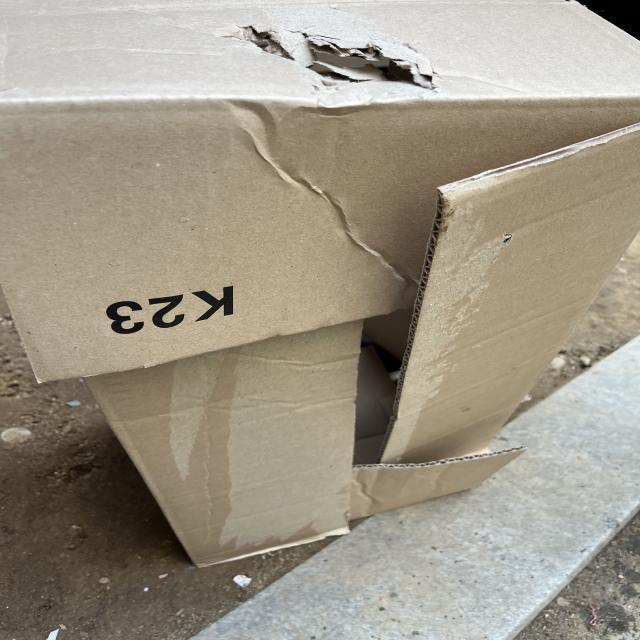hole: (237, 17, 447, 99)
wet: (96, 379, 334, 568)
